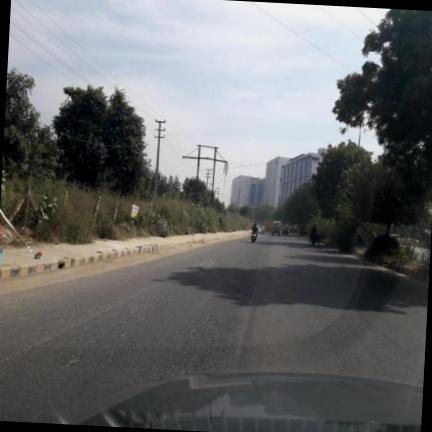Road: (0, 235, 427, 423)
